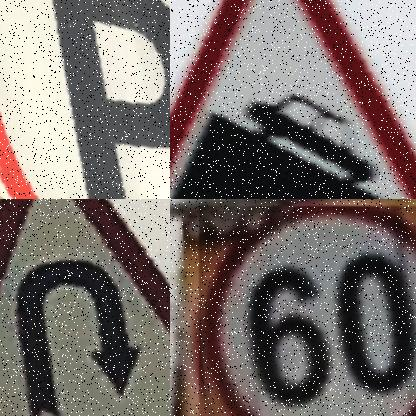Parking: (0, 0, 170, 199)
Speed Limit -60 kmph-: (188, 209, 416, 416), (199, 207, 416, 416)
Steep Descent: (170, 0, 416, 199)
